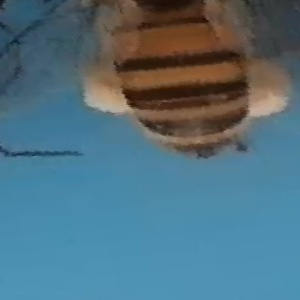bee: (28, 1, 295, 168)
